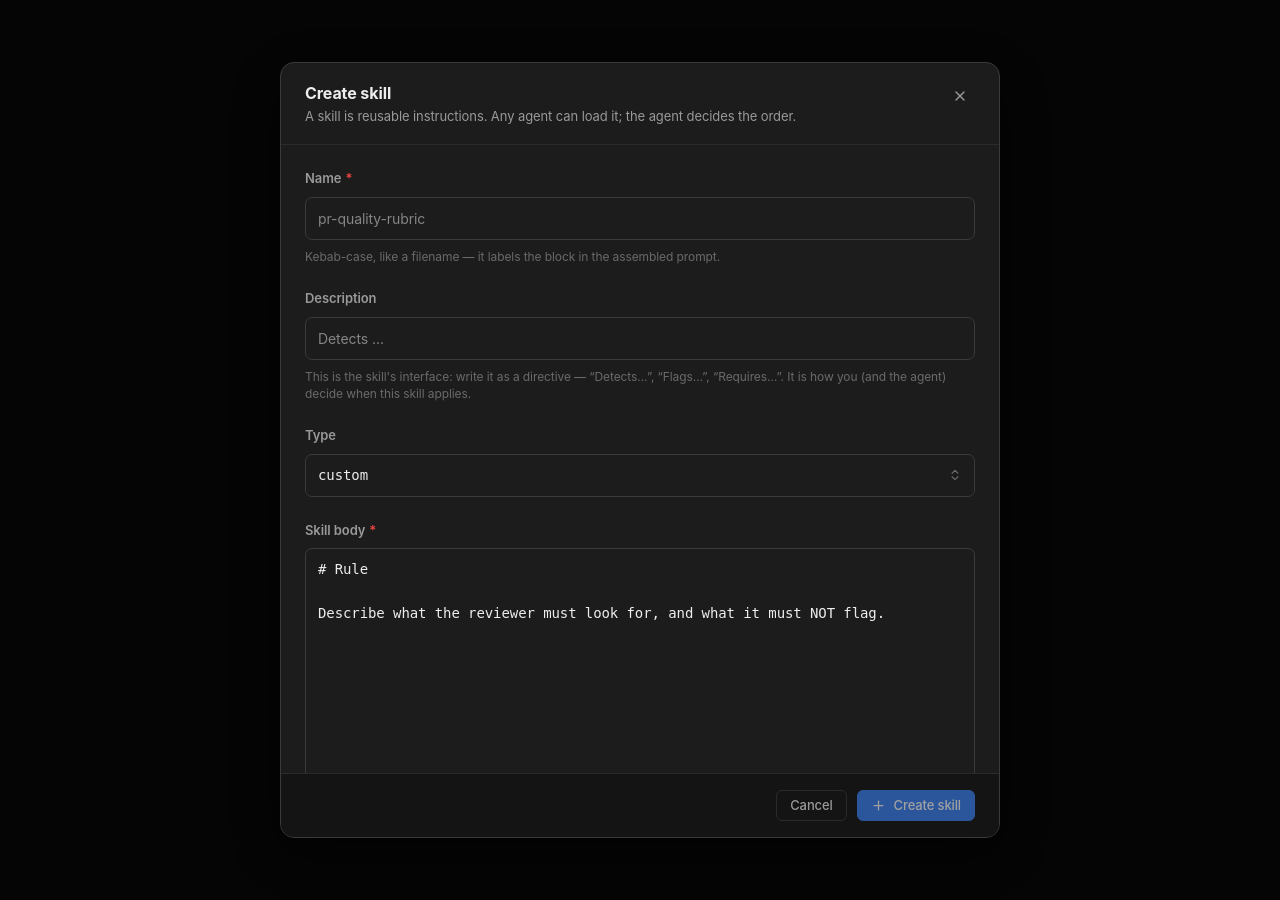
CreateSkillModal › keeps the modal open and shows why when the create fails
Type "flaky-guard" into the field with placeholder "pr-quality-rubric" at (640, 218), box top-left (318, 208), bottom-right (962, 229)
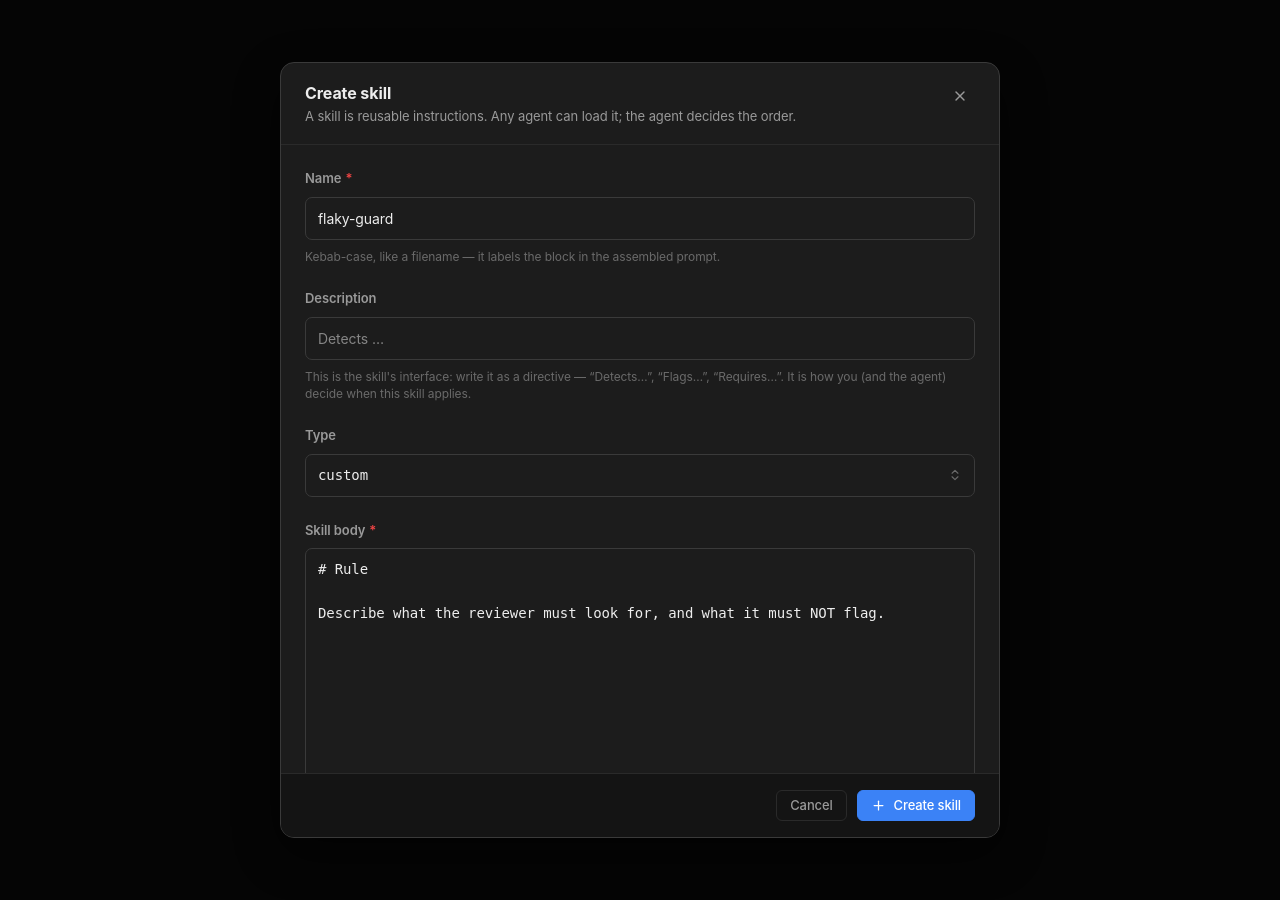
Click the button "Create skill" at (916, 805), box top-left (857, 790), bottom-right (975, 821)
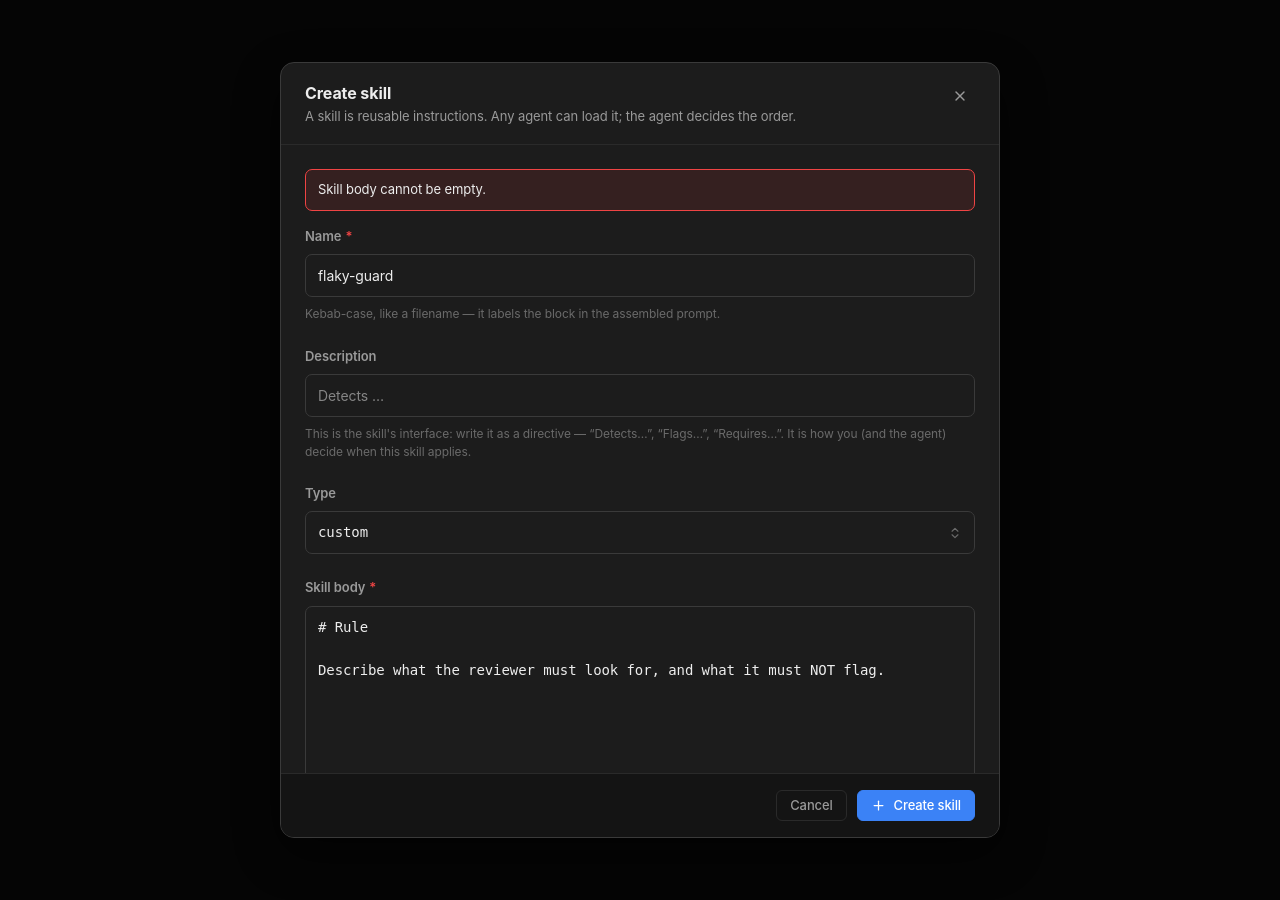
Now the message reads "Skill body cannot be empty.", box top-left (318, 181), bottom-right (486, 197)
